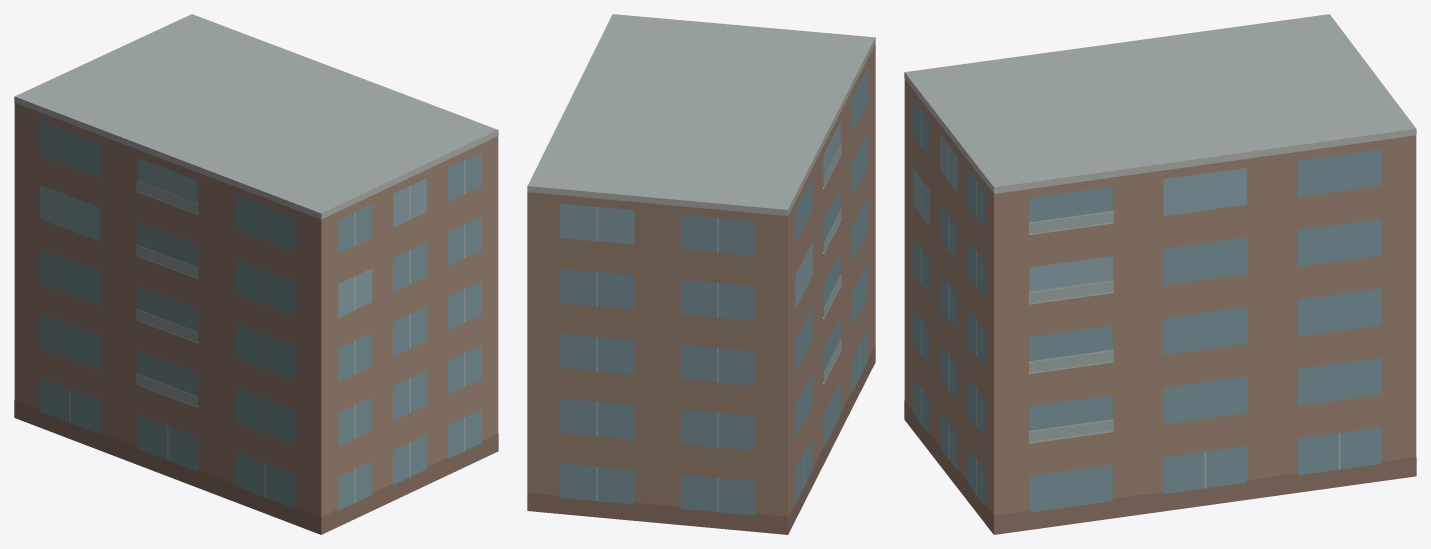
File: survey-upis-32852294.glb
3 views of the same model, side by side, from view 1: azimuth 30°, elevation 25°; view 2: azimuth 150°, elevation 25°; view 3: azimuth 270°, elevation 25° (orthographic). The views are drawn at different scales.
Parts seen in each view (by area): view 1: survey-upis-32852294.tmp; view 2: survey-upis-32852294.tmp; view 3: survey-upis-32852294.tmp.
Part boxes in pixels (x1,y1,x2,y2): survey-upis-32852294.tmp: (14,14,498,534); survey-upis-32852294.tmp: (527,14,875,534); survey-upis-32852294.tmp: (904,14,1416,534).
Size of the model in its own units: 13.93 by 13 by 17.37.
